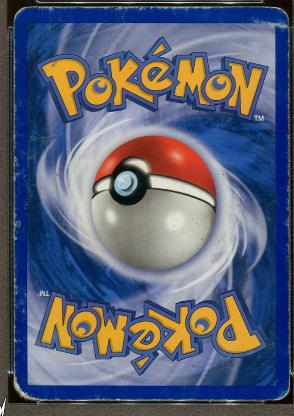Card: (9, 1, 291, 403)
Corner Wear: (11, 376, 40, 402), (262, 384, 289, 402), (269, 4, 288, 22), (10, 4, 27, 16)
Edge Wear: (284, 29, 288, 289), (28, 5, 244, 9), (51, 396, 233, 400), (13, 30, 15, 370), (285, 304, 288, 360)
Scratch: (14, 280, 26, 322), (253, 17, 283, 31), (26, 132, 67, 142), (74, 274, 89, 294), (107, 10, 131, 22), (45, 12, 60, 30), (14, 168, 27, 182), (24, 182, 34, 196), (253, 143, 265, 153), (263, 339, 274, 349), (15, 219, 21, 227), (14, 156, 18, 166), (24, 200, 28, 210), (13, 338, 22, 342), (272, 378, 277, 384)
